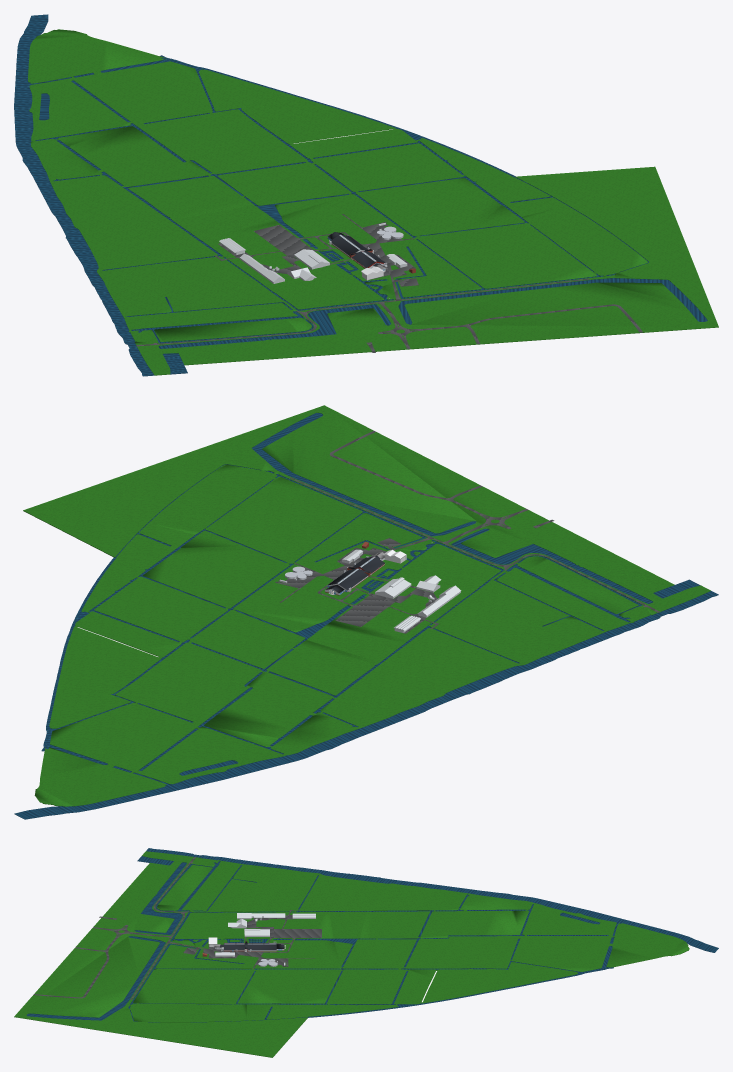
File: barn_textured.glb
The picture shows the model from 3 angles, top to bottom: view 1: azimuth 30°, elevation 25°; view 2: azimuth 150°, elevation 25°; view 3: azimuth 270°, elevation 25°; orthographic projection. The views are drawn at different scales.
Parts seen in each view (by area): view 1: Campus_Floors_Ground, Campus_Floors_Water, Campus_Floors_Paving, Campus_Building_Sheds_Campus, Campus_Roofs; view 2: Campus_Floors_Ground, Campus_Floors_Water, Campus_Floors_Paving, Campus_Building_Sheds_Campus, Campus_Roofs; view 3: Campus_Floors_Ground, Campus_Floors_Water, Campus_Floors_Paving, Campus_Building_Sheds_Campus, Campus_Roofs.
Part boxes in pixels (x1=…): Campus_Floors_Ground: x1=28, y1=29, x2=718, y2=375; Campus_Floors_Water: x1=14, y1=14, x2=707, y2=376; Campus_Floors_Paving: x1=136, y1=214, x2=642, y2=352; Campus_Building_Sheds_Campus: x1=219, y1=223, x2=387, y2=283; Campus_Roofs: x1=328, y1=232, x2=385, y2=267; Campus_Floors_Ground: x1=23, y1=405, x2=710, y2=806; Campus_Floors_Water: x1=14, y1=413, x2=718, y2=819; Campus_Floors_Paving: x1=275, y1=431, x2=659, y2=633; Campus_Building_Sheds_Campus: x1=279, y1=575, x2=461, y2=632; Campus_Roofs: x1=325, y1=556, x2=384, y2=593; Campus_Floors_Ground: x1=14, y1=851, x2=689, y2=1057; Campus_Floors_Water: x1=26, y1=848, x2=718, y2=1022; Campus_Floors_Paving: x1=33, y1=857, x2=321, y2=999; Campus_Building_Sheds_Campus: x1=221, y1=913, x2=315, y2=965; Campus_Roofs: x1=220, y1=941, x2=284, y2=950.
Size of the model in its own units: 1353 by 16.24 by 1922.
38 materials, 12 textured.
